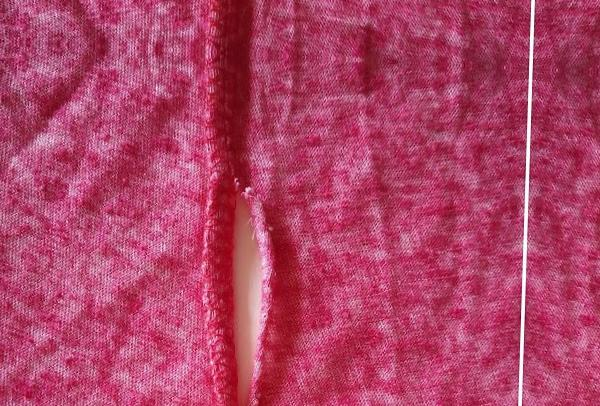hole: (208, 173, 282, 406)
